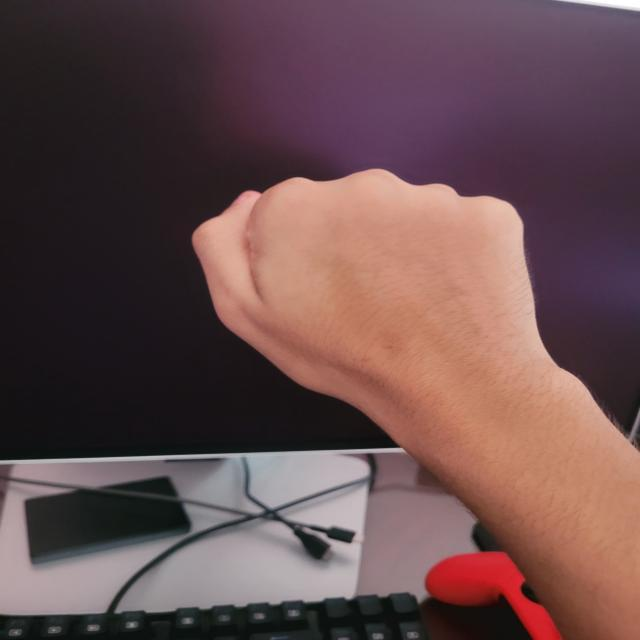Closed Hand: (189, 168, 578, 402)
